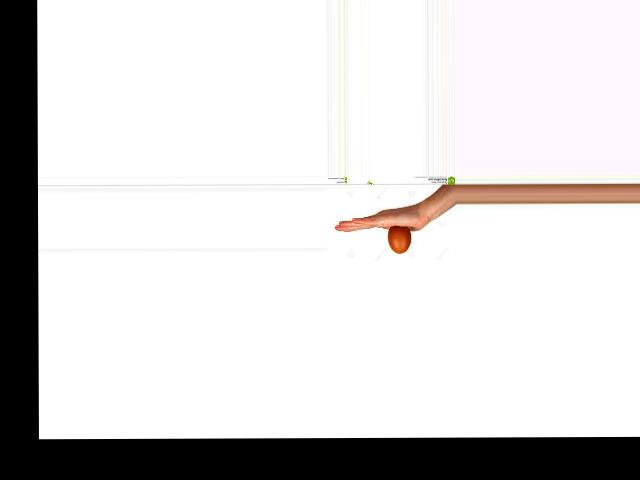egg: (387, 224, 410, 253)
